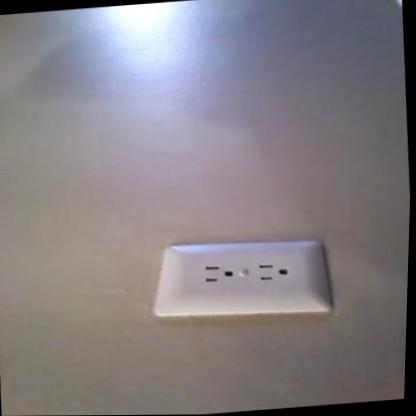OUTLET: (150, 237, 329, 321)
